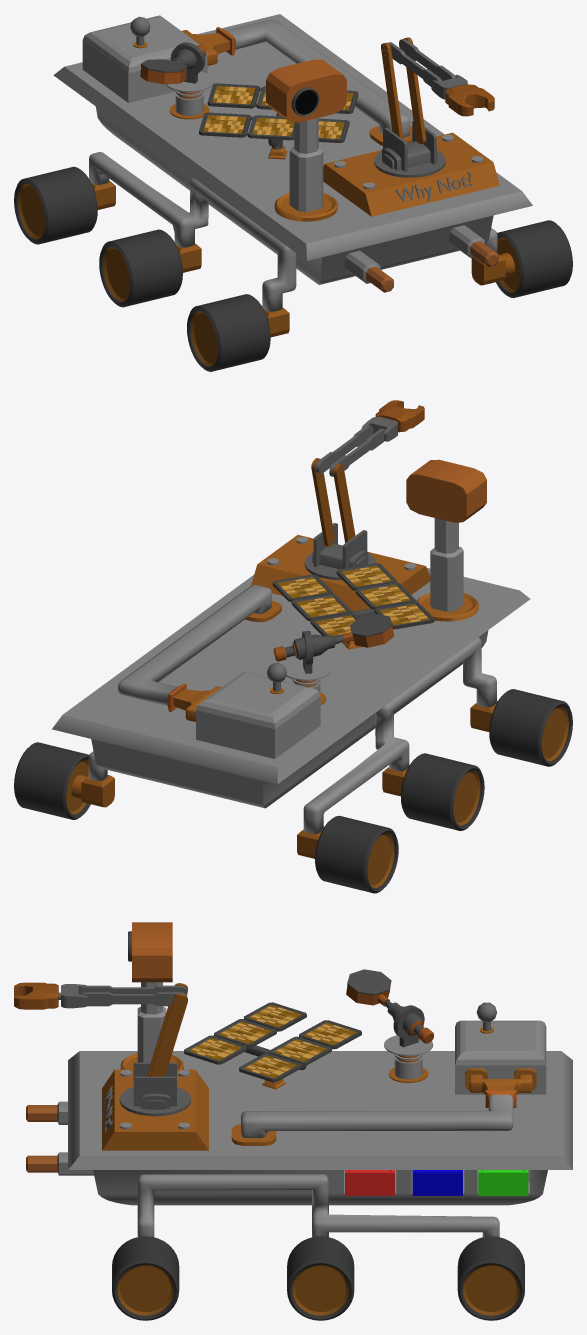
The model's file is Rover.fbx.
3 views of the same model, one above another, from view 1: azimuth 30°, elevation 25°; view 2: azimuth 150°, elevation 25°; view 3: azimuth 270°, elevation 25° (orthographic).
Visible parts, largest first — view 1: Cube.001, Cube.004, Cylinder.003, Cylinder.005, Cylinder.004, Cylinder, Cylinder.010, Cylinder.030, Cube.025, Cube.011, Cube.013, Cube.022 (+9 smaller); view 2: Cube.001, Cube.004, Cylinder.003, Cylinder.005, Cylinder.004, Cylinder.002, Cylinder.010, Cylinder.030, Cylinder.029, Cube.013, Cube.025, Cube.019 (+3 smaller); view 3: Cube.001, Cube.004, Cylinder, Cylinder.002, Cylinder.001, Cylinder.030, Cylinder.029, Cube.013, Cube.025, Cylinder.010, Cube.019, Cube.011 (+5 smaller).
Boxes of the visible parts, <box> form: Cube.001: <box>53,14,532,311</box>; Cube.004: <box>169,30,499,221</box>; Cylinder.003: <box>187,294,270,371</box>; Cylinder.005: <box>14,166,97,244</box>; Cylinder.004: <box>99,229,182,307</box>; Cylinder: <box>496,220,572,297</box>; Cylinder.010: <box>266,59,346,122</box>; Cylinder.030: <box>199,112,349,142</box>; Cube.025: <box>374,121,445,177</box>; Cube.011: <box>344,225,498,292</box>; Cube.013: <box>140,42,206,84</box>; Cube.022: <box>381,37,426,143</box>; Cube.001: <box>52,518,530,833</box>; Cube.004: <box>173,535,478,722</box>; Cylinder.003: <box>489,689,572,766</box>; Cylinder.005: <box>315,815,398,893</box>; Cylinder.004: <box>401,753,484,830</box>; Cylinder.002: <box>14,742,90,819</box>; Cylinder.010: <box>406,459,486,522</box>; Cylinder.030: <box>336,563,434,629</box>; Cylinder.029: <box>272,574,358,636</box>; Cube.013: <box>273,614,394,673</box>; Cube.025: <box>304,523,375,579</box>; Cube.019: <box>315,416,397,476</box>; Cube.001: <box>68,982,572,1237</box>; Cube.004: <box>102,1045,536,1150</box>; Cylinder: <box>112,1236,179,1320</box>; Cylinder.002: <box>457,1236,524,1320</box>; Cylinder.001: <box>287,1236,354,1320</box>; Cylinder.030: <box>184,1002,306,1064</box>; Cylinder.029: <box>239,1020,361,1082</box>; Cube.013: <box>346,969,433,1047</box>; Cube.025: <box>119,1062,190,1116</box>; Cylinder.010: <box>128,922,172,982</box>; Cube.019: <box>58,984,187,1008</box>; Cube.011: <box>26,1101,93,1175</box>.
Bounding box in the file's own units: 2375 × 1727 × 3254.
